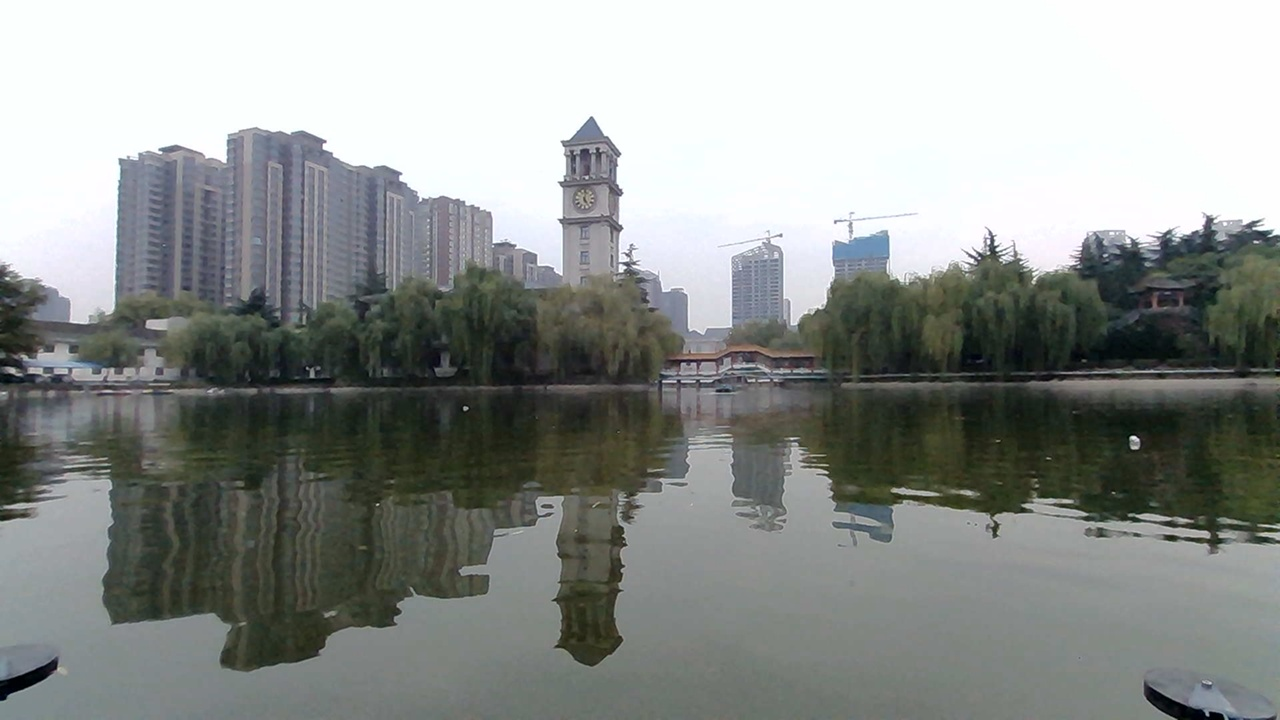bottle: (1110, 426, 1162, 456)
